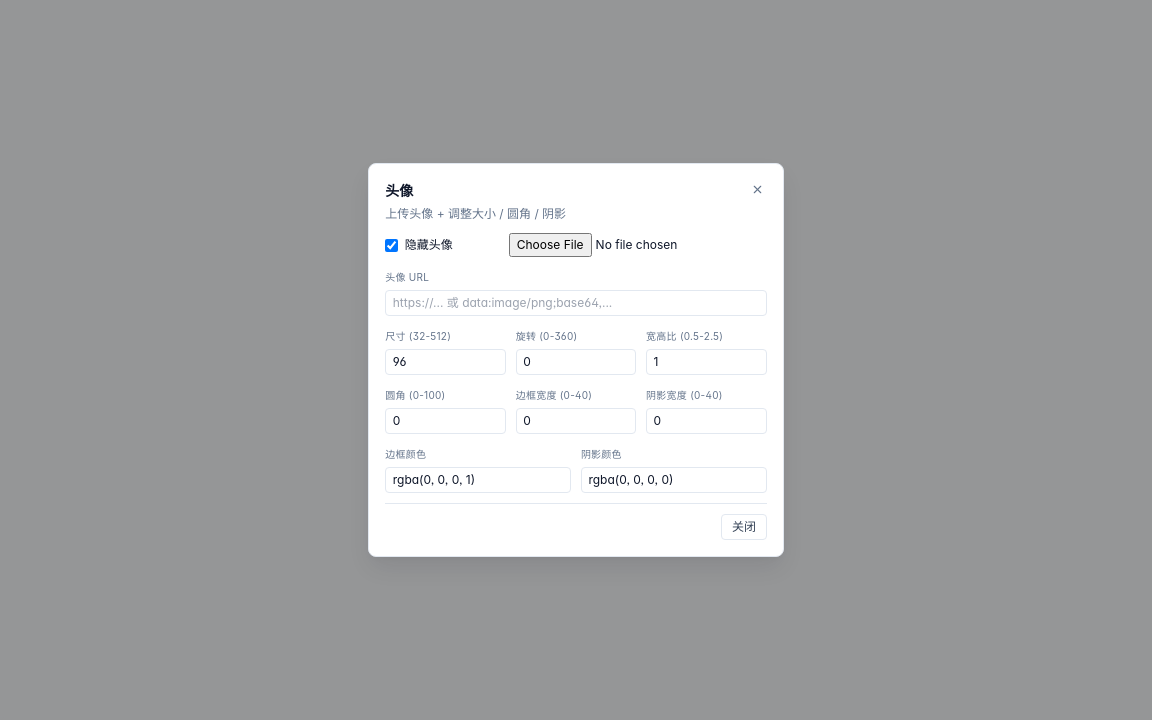
Scenario: PictureDialog (AC-05, AC-05b, AC-06, AC-07, AC-09b) › rejects javascript: url on blur with toast (AC-09b)
Replace the text in the field with test id "picture-url" with "javascript:alert(1)": (576, 303) [385,290,767,316]
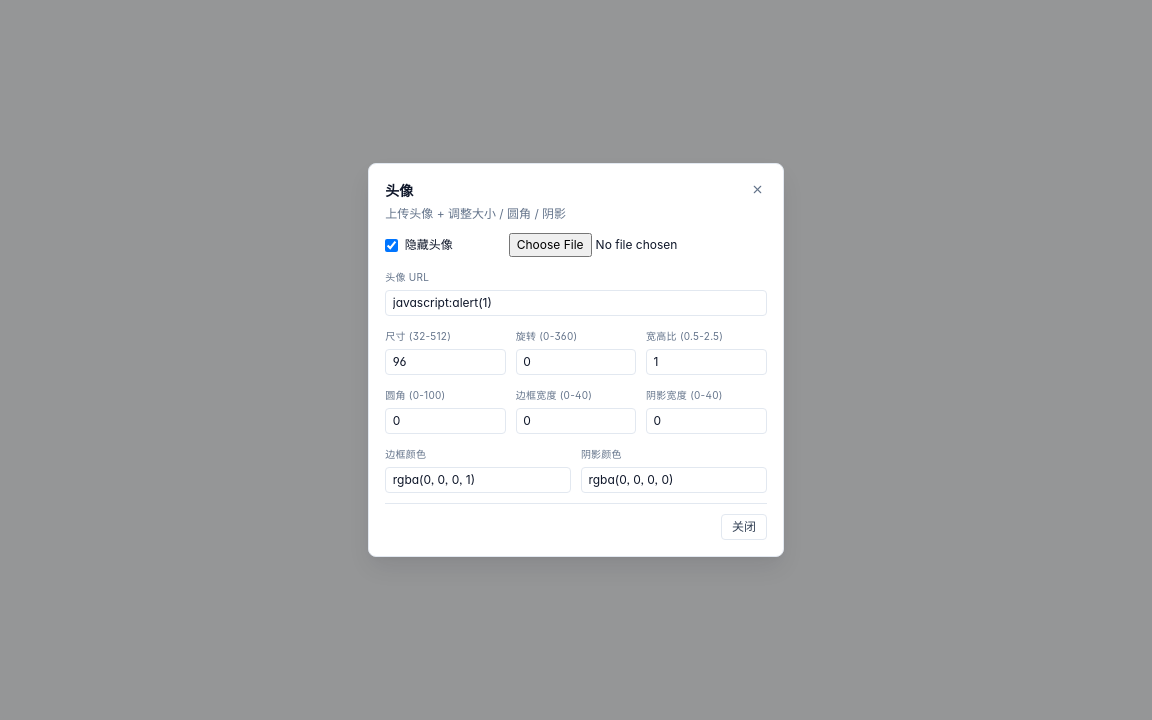
Leave the field with test id "picture-url", box [385,290,767,316]
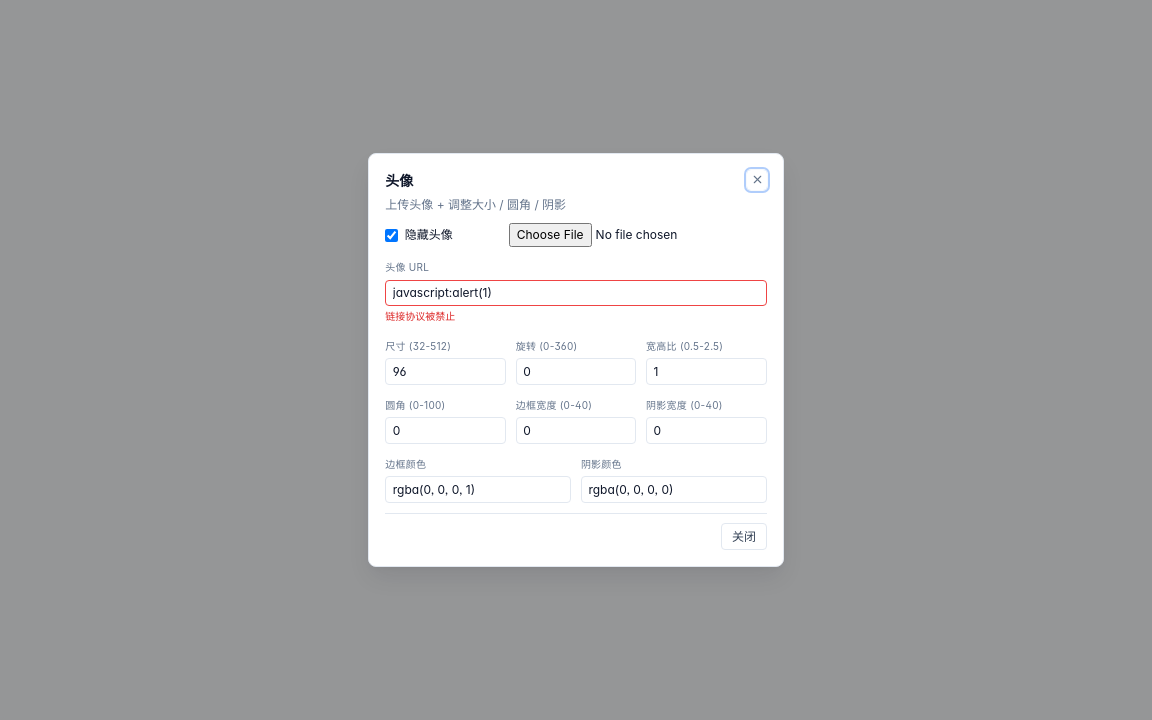
Expected: the message "链接协议被禁止" is shown, [385,310,455,322]
